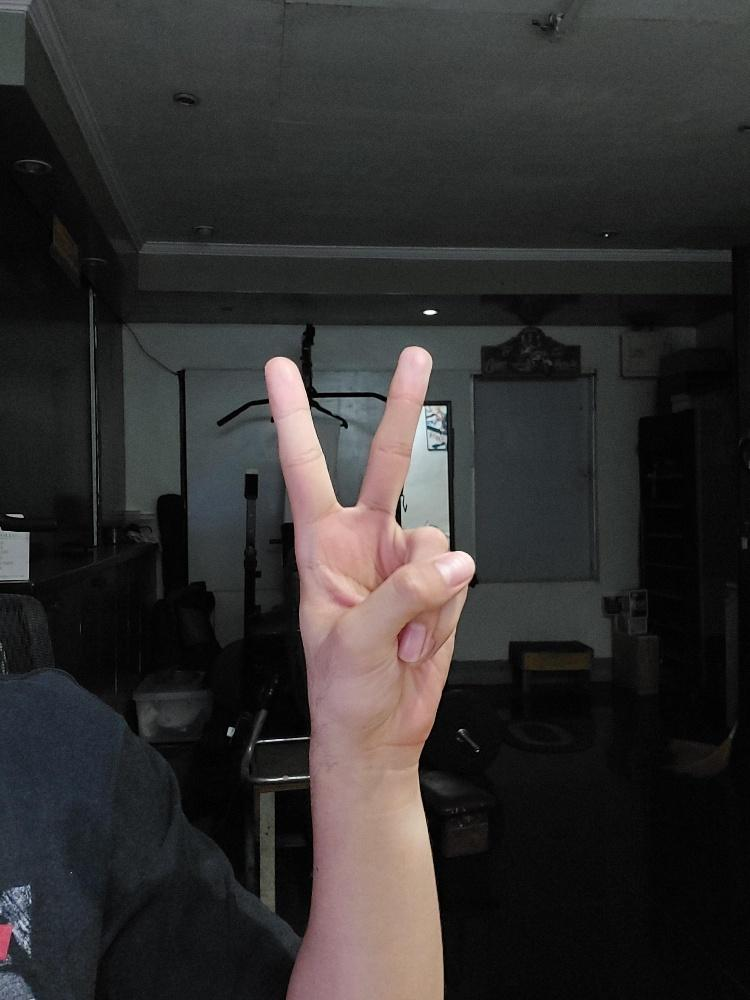v: (263, 345, 475, 753)
